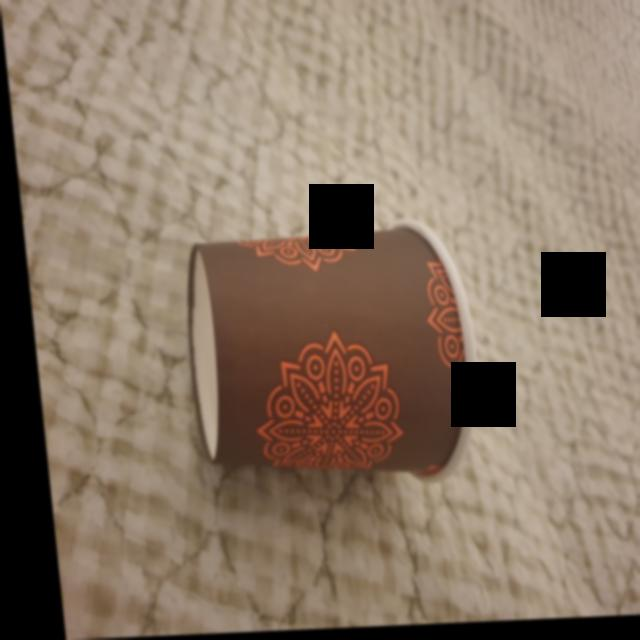cups: (168, 222, 485, 504)
